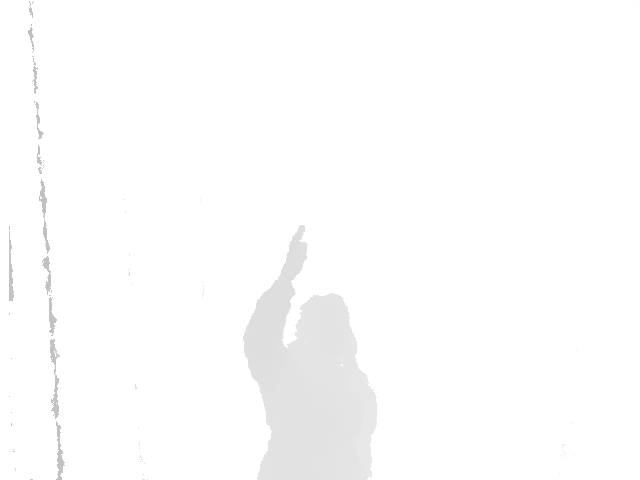hand: (279, 225, 308, 284)
head: (291, 293, 356, 360)
person: (243, 225, 377, 480)
